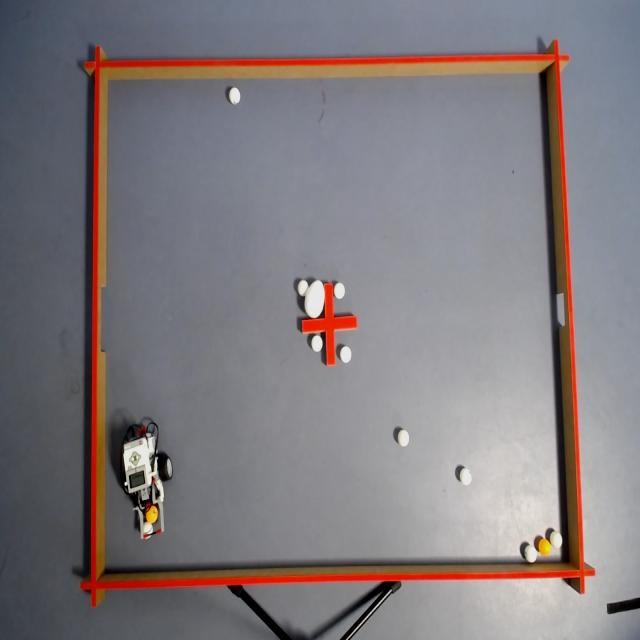boundaries: (542, 35, 596, 599), (75, 558, 598, 612), (82, 38, 570, 87), (77, 44, 111, 614)
cross: (300, 281, 358, 366)
egg: (304, 276, 326, 318)
large_goal: (80, 259, 116, 372)
orange_ball: (536, 536, 553, 560), (144, 504, 159, 525)
robot: (117, 421, 175, 546)
small_goal: (544, 272, 580, 345)
white_ball: (225, 86, 244, 110), (550, 527, 566, 551), (457, 466, 473, 490), (395, 425, 410, 450), (311, 332, 323, 357), (139, 521, 154, 541), (340, 343, 353, 365), (525, 540, 538, 562), (297, 277, 309, 297), (334, 280, 346, 300)
